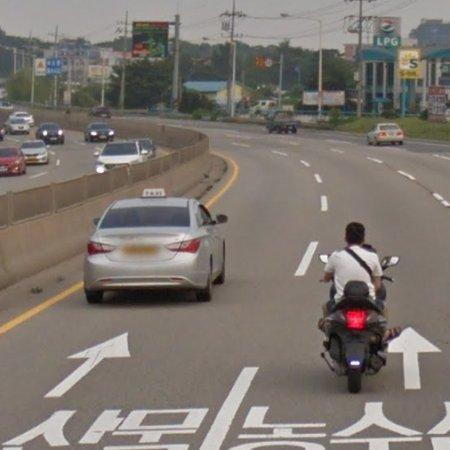stairs: (322, 282, 388, 393)
